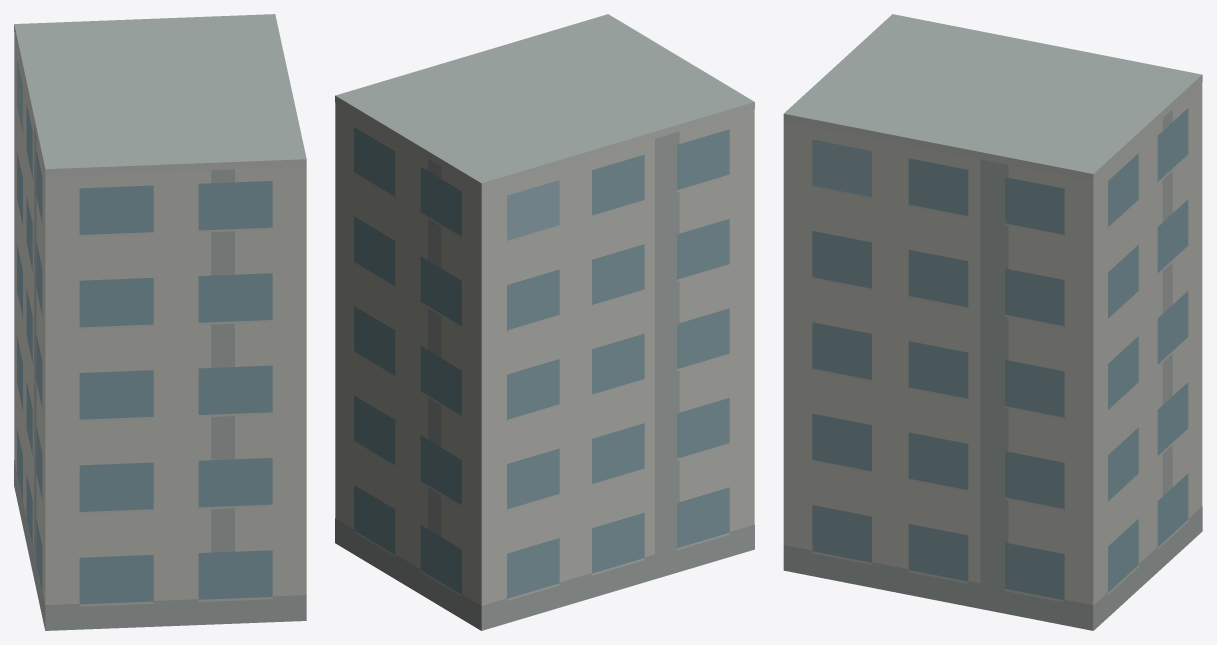
The model's file is residential-51f3317c-b0ab-40fd-8a16-1993b7bab185.glb.
3 views of the same model, side by side, from view 1: azimuth 30°, elevation 25°; view 2: azimuth 150°, elevation 25°; view 3: azimuth 270°, elevation 25° (orthographic). The views are drawn at different scales.
Visible parts, largest first — view 1: residential-51f3317c-b0ab-40fd-8a16-1993b7bab185.tmp; view 2: residential-51f3317c-b0ab-40fd-8a16-1993b7bab185.tmp; view 3: residential-51f3317c-b0ab-40fd-8a16-1993b7bab185.tmp.
Boxes of the visible parts, x1=… form: residential-51f3317c-b0ab-40fd-8a16-1993b7bab185.tmp: x1=14, y1=14, x2=306, y2=630; residential-51f3317c-b0ab-40fd-8a16-1993b7bab185.tmp: x1=335, y1=14, x2=754, y2=630; residential-51f3317c-b0ab-40fd-8a16-1993b7bab185.tmp: x1=783, y1=14, x2=1202, y2=630.
Bounding box in the file's own units: 11.47 × 15.25 × 12.68.
